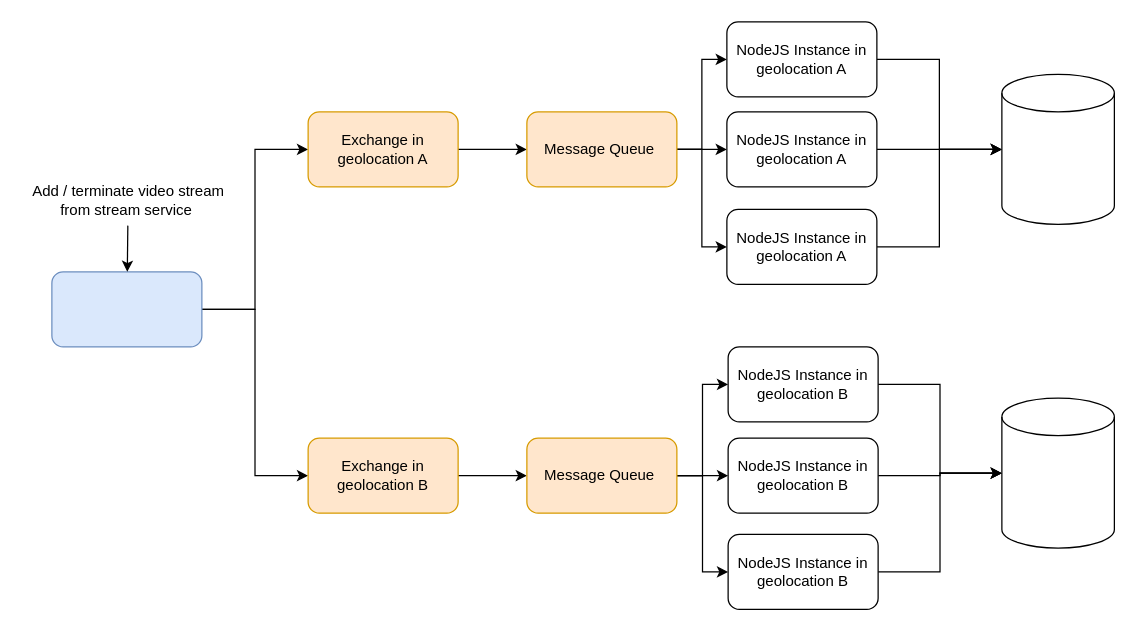
Image size: 1136x631. Some labels were removed from this diagram. Here are the shapes that lost their labels. From the top down, the centre of each, then its label:
the point at 1057,148: Sharded Users in geolocation A
the point at 126,309: Producer
the point at 1057,472: Sharded Users in geolocation B
